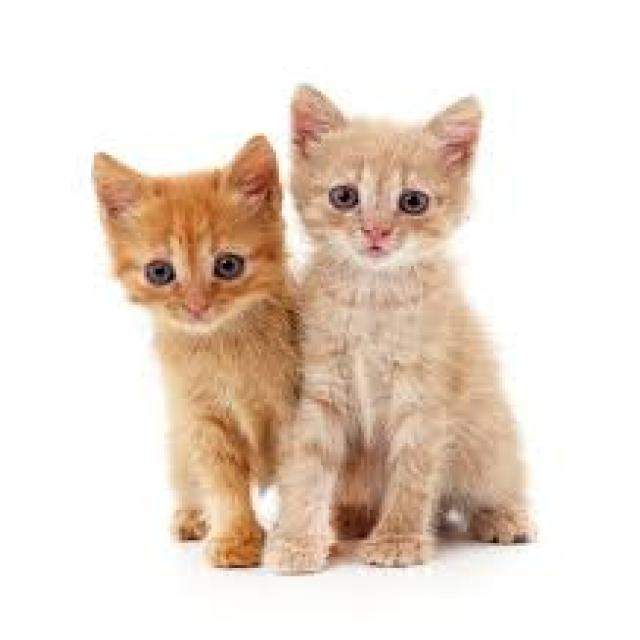Cat: (263, 78, 546, 580), (86, 130, 308, 578)
